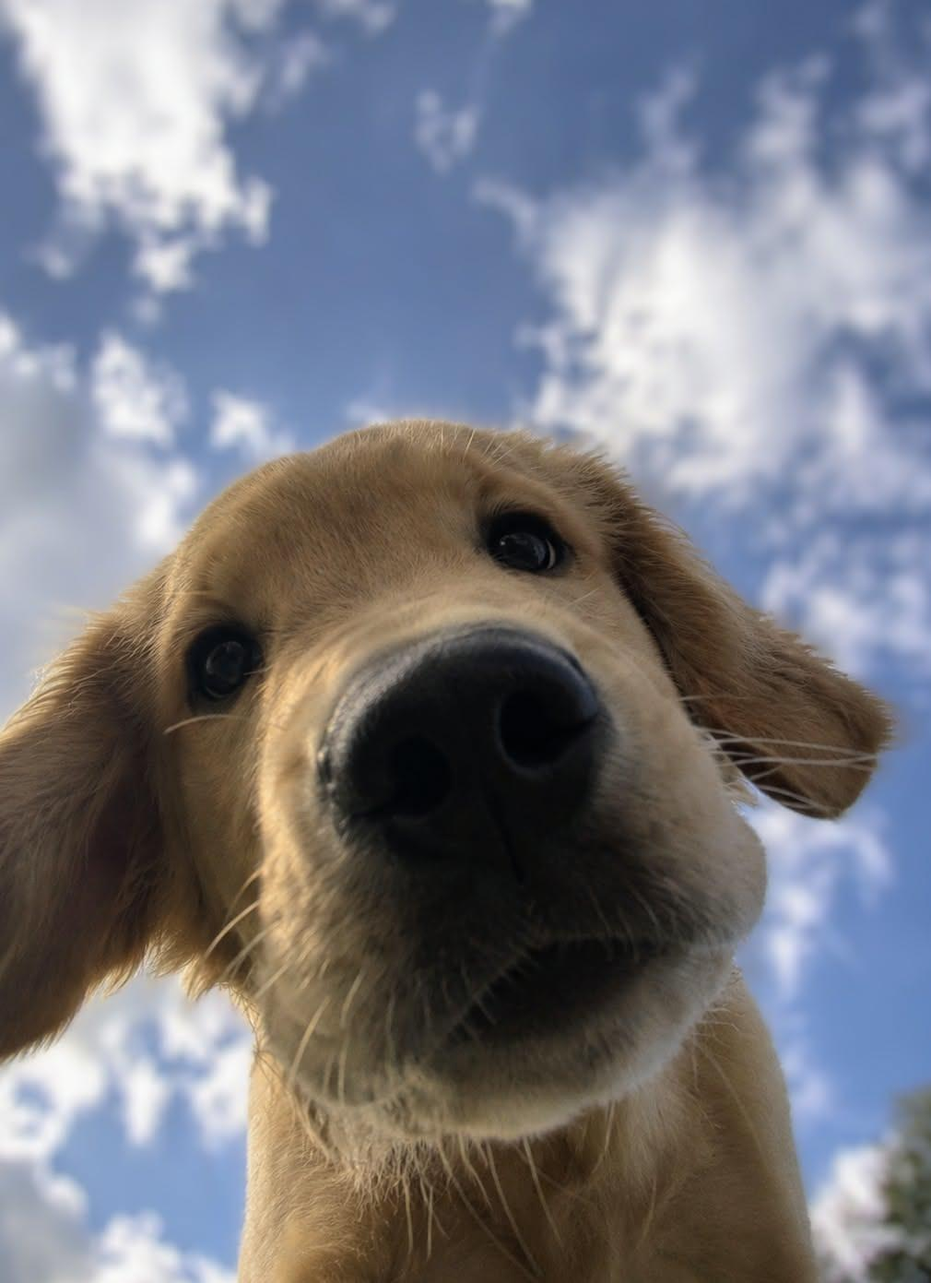puppy-dog: (0, 415, 901, 1283)
